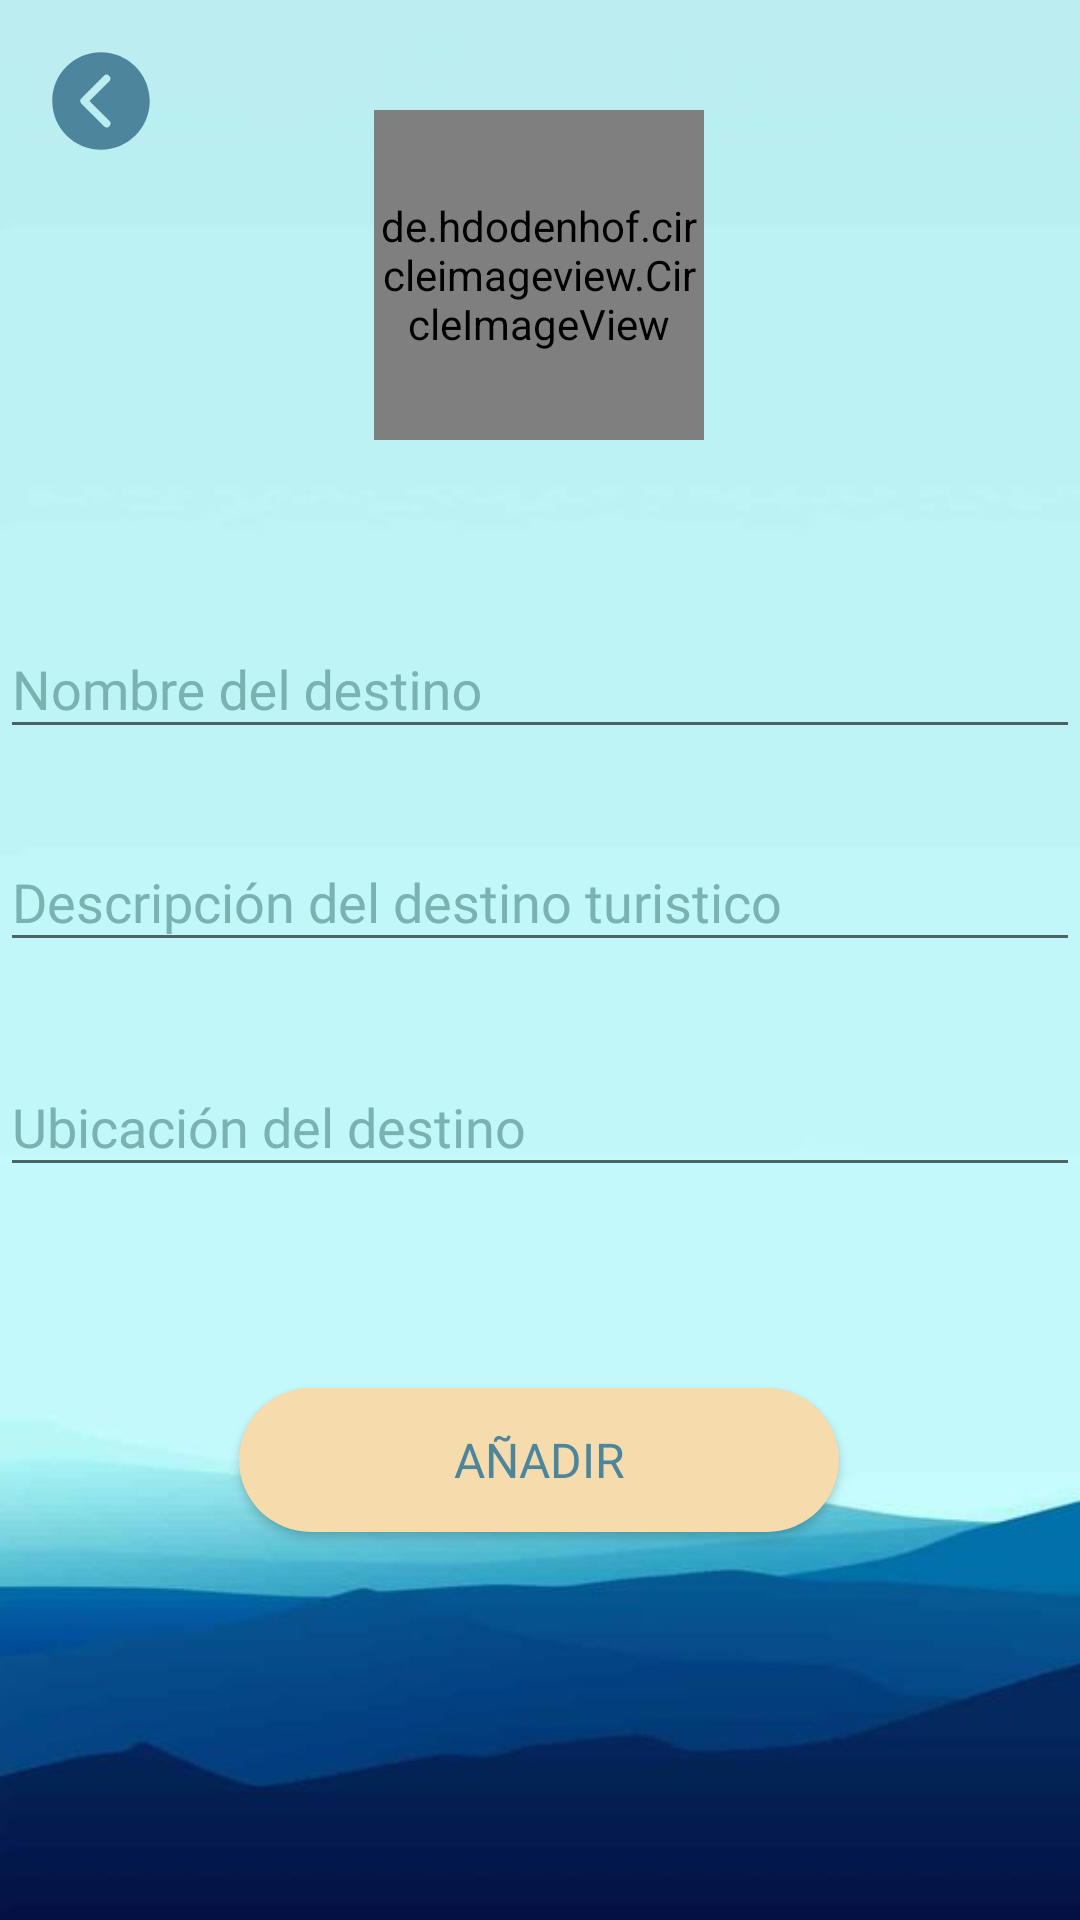

Locate icon controls on the screen. Image size 1080 x 1920, boxes as (x1, y1, x2, y2).
back: (52, 52, 150, 150)
